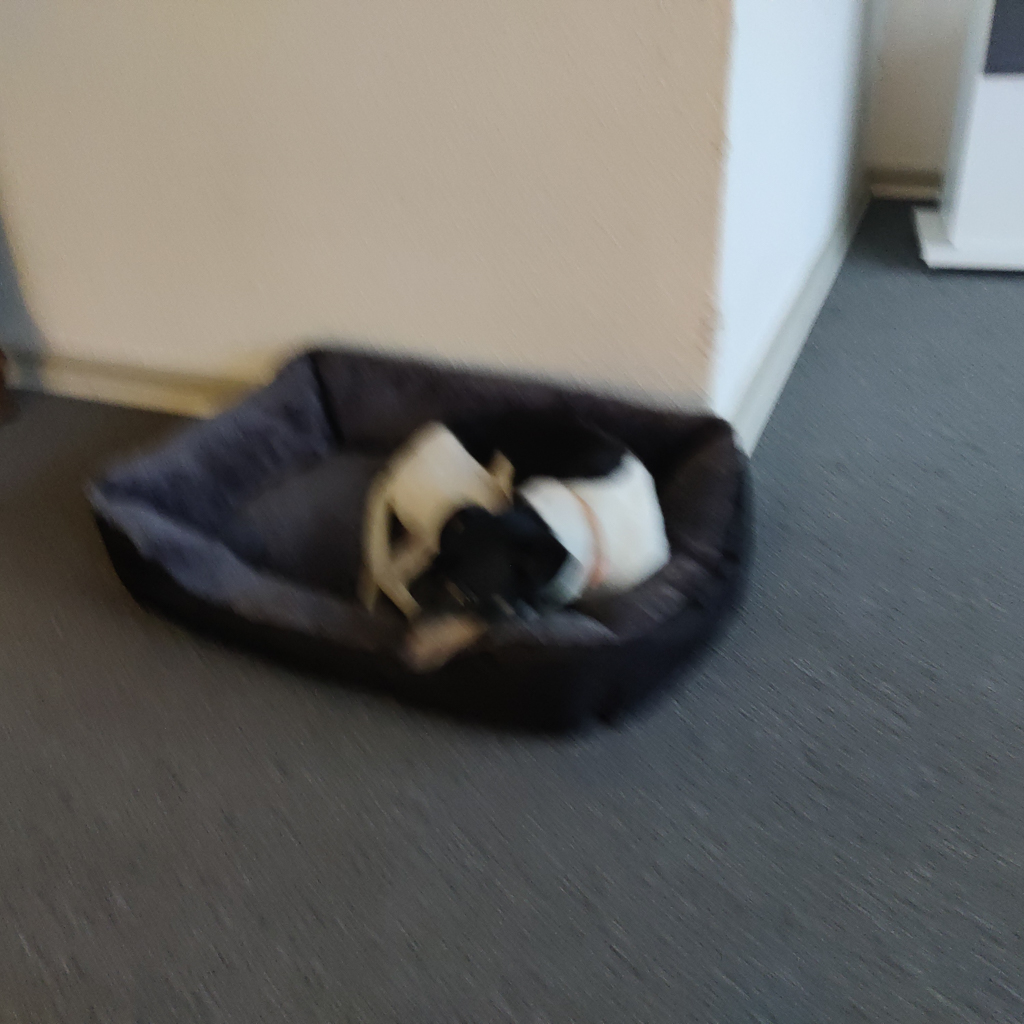Dog: (326, 377, 713, 700)
